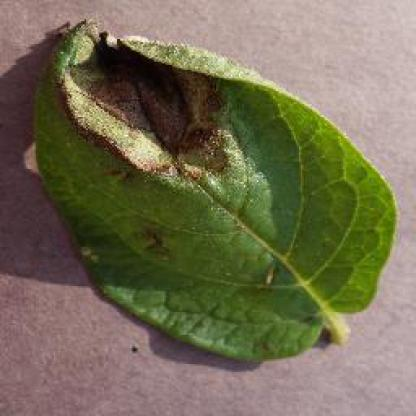bad leaf: (37, 115, 389, 344), (7, 7, 325, 230)
